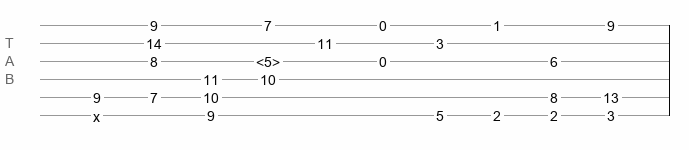0: (379, 18, 387, 28), (379, 54, 387, 64)
1: (493, 18, 501, 28)
10: (203, 90, 219, 100), (260, 72, 276, 82)
11: (203, 72, 219, 82), (317, 36, 333, 46)
13: (603, 90, 619, 100)
14: (146, 36, 162, 46)
2: (493, 108, 501, 118), (550, 108, 558, 118)
3: (436, 36, 444, 46), (607, 108, 615, 118)
5: (436, 108, 444, 118)
6: (550, 54, 558, 64)
7: (150, 90, 158, 100), (264, 18, 272, 28)
8: (150, 54, 158, 64), (550, 90, 558, 100)
9: (93, 90, 101, 100), (150, 18, 158, 28), (207, 108, 215, 118), (607, 18, 615, 28)
harmonic: (256, 54, 280, 64)
x: (93, 109, 100, 117)
